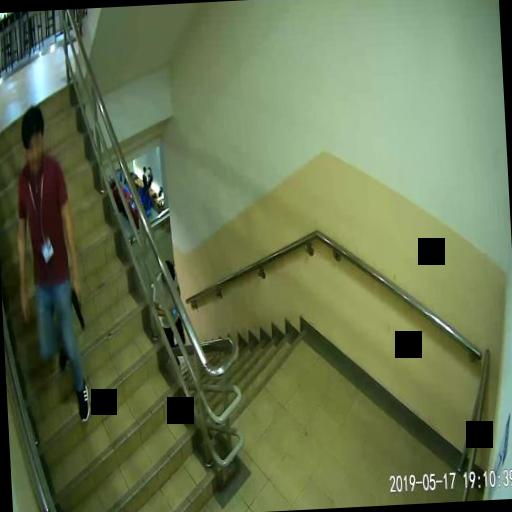Handgun: (70, 282, 84, 329)
